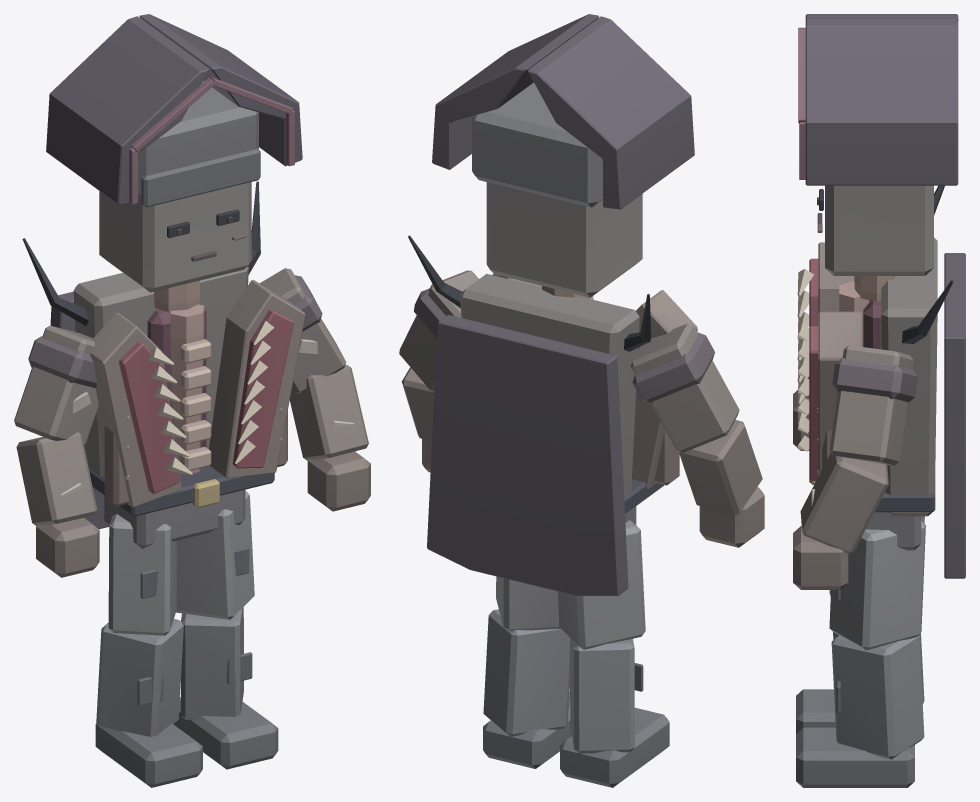
Rendered from AssimilatedAdventurerAssassin.glb.
3 renders of one model, left to right at view 1: azimuth 30°, elevation 25°; view 2: azimuth 150°, elevation 25°; view 3: azimuth 270°, elevation 25°, orthographic. The views are drawn at different scales.
Parts seen in each view (by area): view 1: Body, Head, LegR, LegL, ArmR, ArmL, TendrilR, TendrilL; view 2: Body, Head, LegR, ArmR, LegL, ArmL, TendrilL, TendrilR; view 3: Head, Body, LegL, ArmL, LegR, TendrilL, ArmR.
Boxes of the visible parts, box(x1,y1,x2,y2) form: Body: box(50, 266, 305, 548); Head: box(46, 14, 302, 311); LegR: box(95, 514, 202, 787); LegL: box(173, 490, 278, 769); ArmR: box(14, 325, 99, 577); ArmL: box(260, 268, 370, 511); TendrilR: box(22, 238, 88, 325); TendrilL: box(247, 181, 260, 274); Body: box(427, 273, 697, 595); Head: box(432, 14, 694, 298); LegR: box(558, 520, 669, 787); ArmR: box(630, 323, 764, 547); LegL: box(483, 576, 571, 768); ArmL: box(399, 270, 478, 472); TendrilL: box(408, 235, 461, 308); TendrilR: box(624, 293, 651, 351); Head: box(798, 14, 958, 301); Body: box(797, 237, 965, 578); LegL: box(796, 521, 925, 787); ArmL: box(793, 345, 917, 589); LegR: box(796, 516, 924, 733); TendrilL: box(902, 280, 953, 343); ArmR: box(793, 376, 809, 450).
Size of the model in its own units: 3.24 by 6.79 by 1.44.
